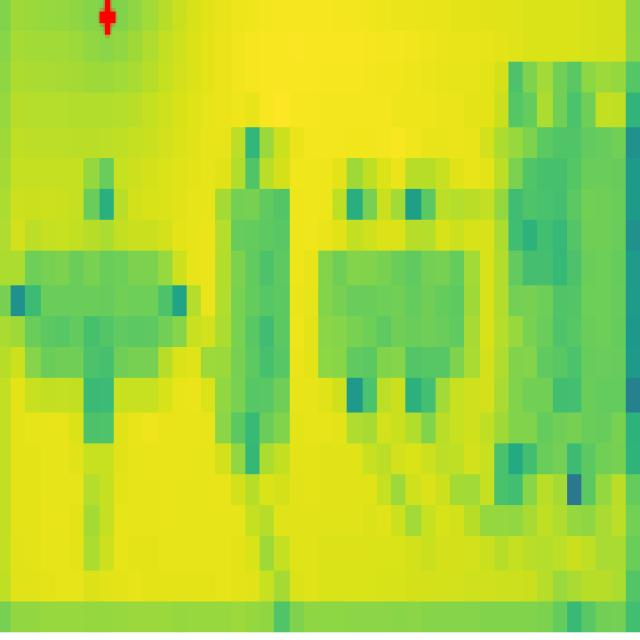Concrete: (24, 248, 175, 376)
Glass: (498, 126, 628, 477)
Metal: (215, 192, 291, 440)
Wood: (316, 248, 480, 379)
